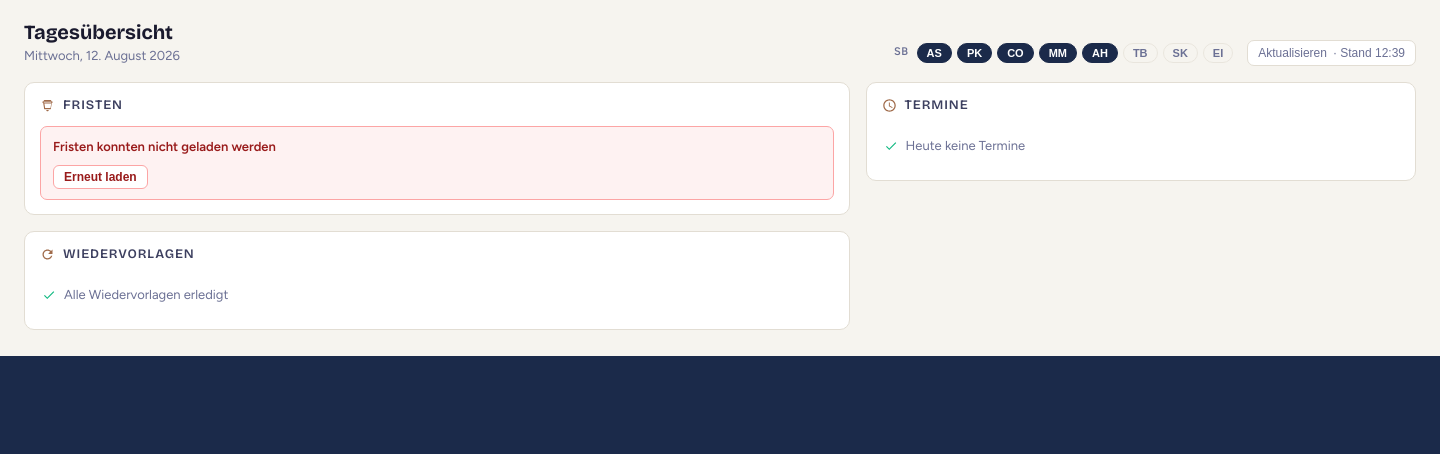
it: ActionBoardView › zeigt bei Fristen-Fehler den Fehlerblock und lädt per Retry neu
The image size is (1440, 454).
Expected: the text "Fristen konnten nicht geladen werden" is shown, x1=53 y1=139 x2=276 y2=154
Expected: the text "Keine Fristen in den nächsten" is not shown
Step 1. Click the button "Erneut laden" → (100,176), box x1=53 y1=164 x2=148 y2=188
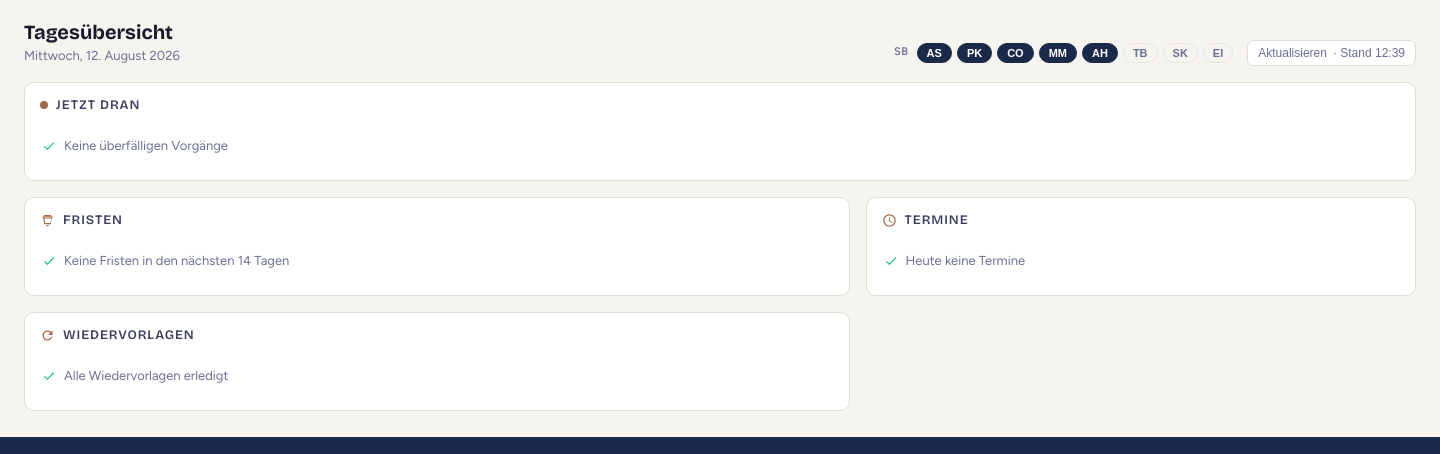
Expected: the text "Keine Fristen in den nächsten 14 Tagen" is shown, x1=42 y1=253 x2=289 y2=268
